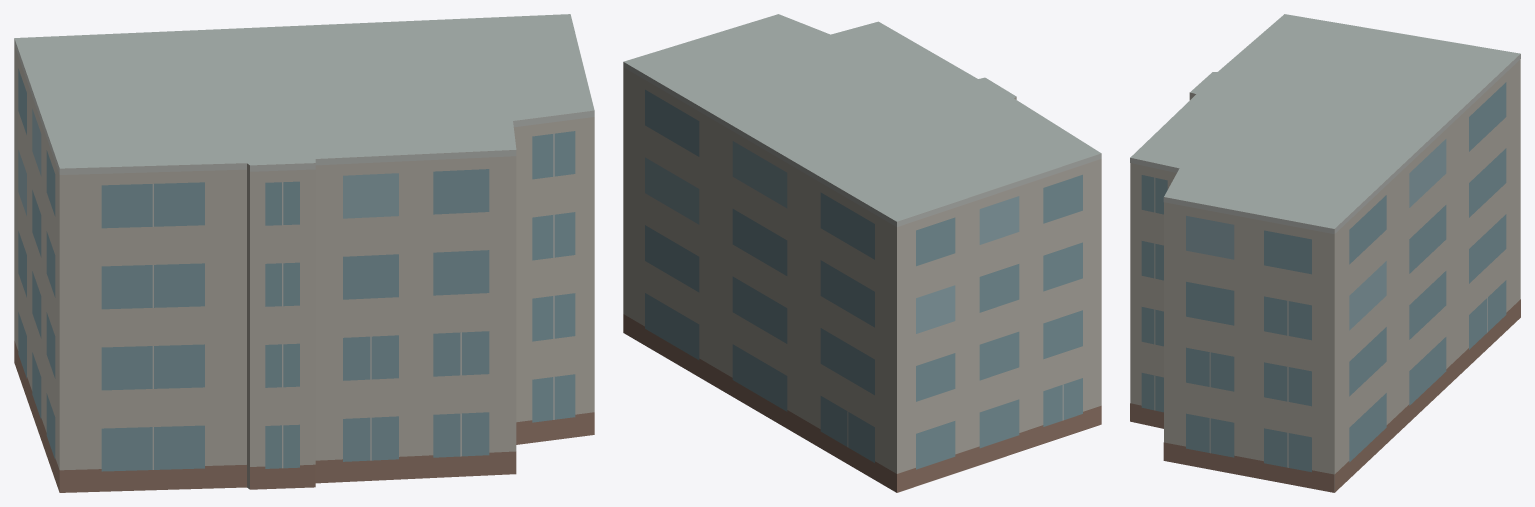
File: survey-upis-32636468.glb
3 renders of one model, left to right at view 1: azimuth 30°, elevation 25°; view 2: azimuth 150°, elevation 25°; view 3: azimuth 270°, elevation 25°, orthographic. The views are drawn at different scales.
Visible parts, largest first — view 1: survey-upis-32636468.tmp; view 2: survey-upis-32636468.tmp; view 3: survey-upis-32636468.tmp.
Part boxes in pixels (x1,y1,x2,y2): survey-upis-32636468.tmp: (14, 14, 594, 492); survey-upis-32636468.tmp: (623, 14, 1101, 492); survey-upis-32636468.tmp: (1130, 14, 1520, 492).
Bounding box in the file's own units: 21.5 × 12.3 × 16.51.
